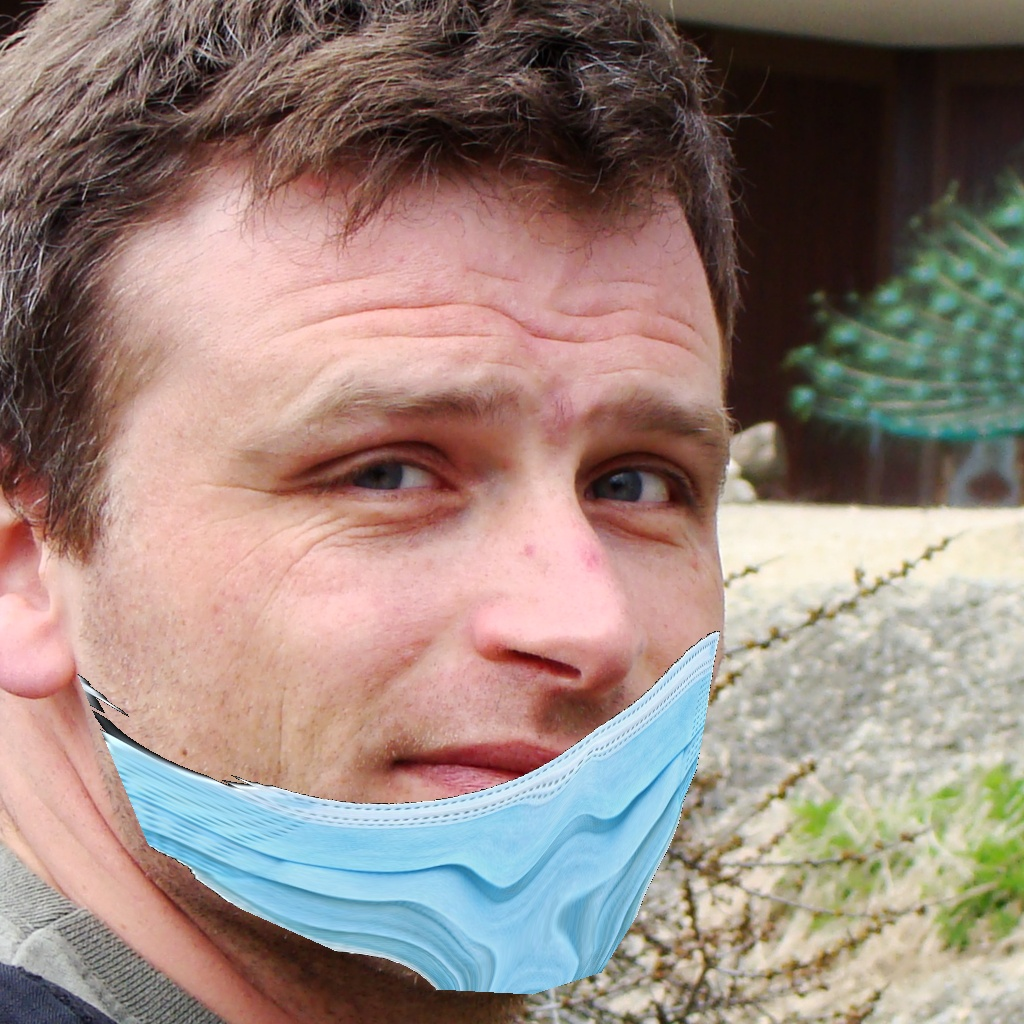mascarilla_mal_puesta: (24, 508, 809, 998)
